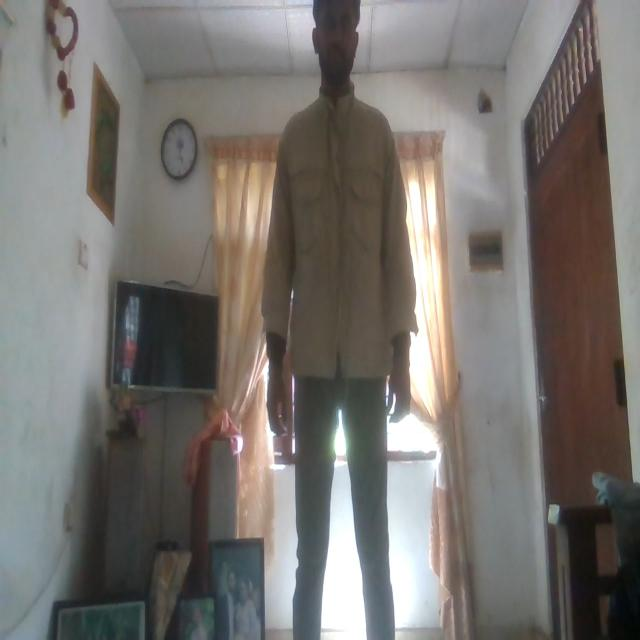Jacket_Wearer: (259, 87, 417, 407)
Person: (256, 0, 416, 640)
